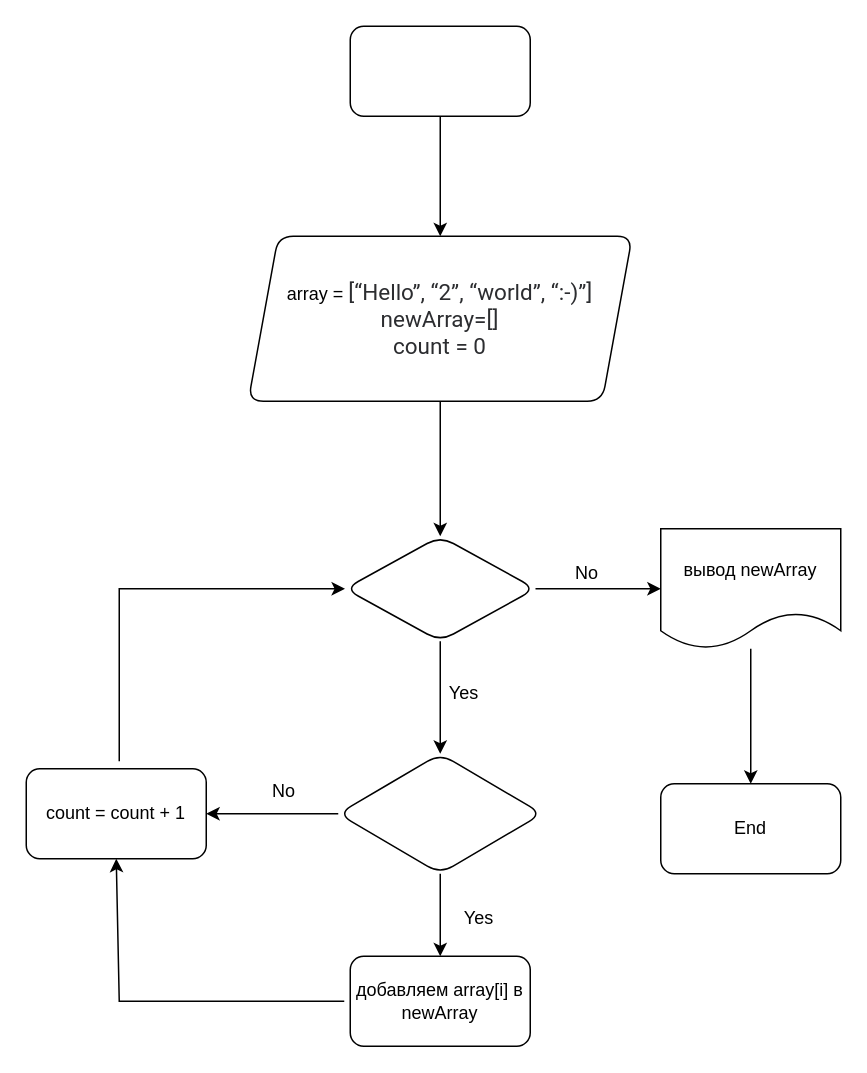
Some shapes in this 867 by 1073 pixel diagram are drawn without their labels. Each missing label, with the box of its shape:
array[i].Length <= 3: (337, 752, 542, 874)
i < array.Length: (344, 535, 536, 641)
Start: (349, 25, 530, 116)
